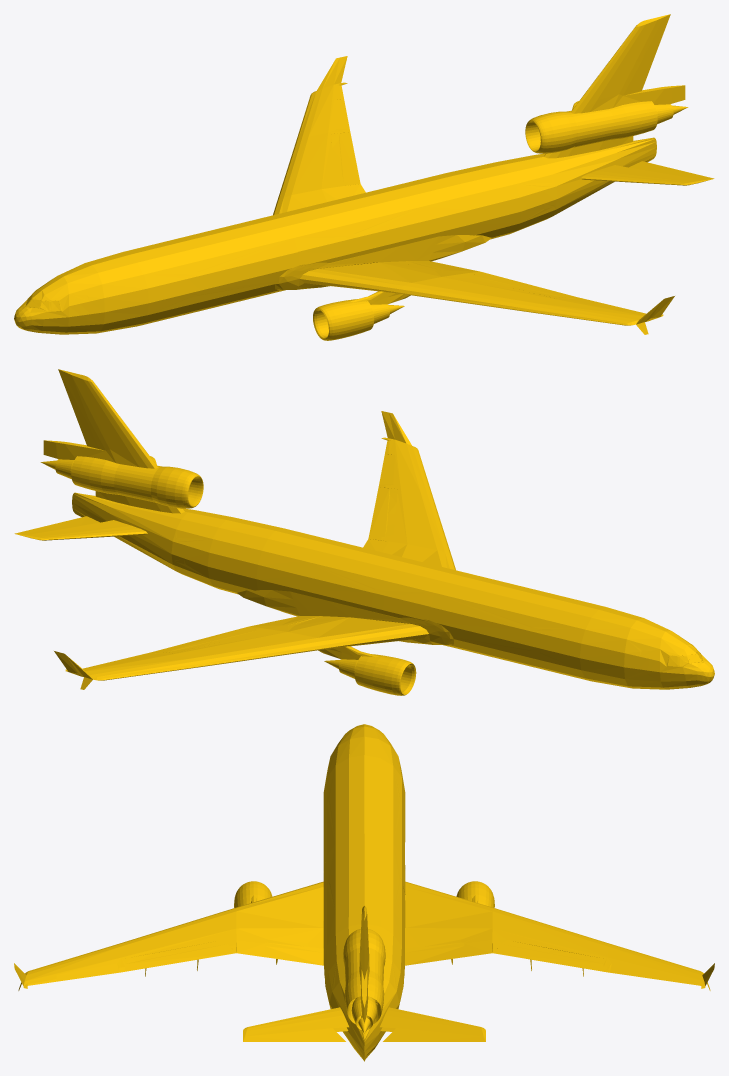
The picture shows the model from 3 angles, top to bottom: view 1: azimuth 30°, elevation 25°; view 2: azimuth 150°, elevation 25°; view 3: azimuth 270°, elevation 25°; orthographic projection. The views are drawn at different scales.
Bounding box in the file's own units: 61.49 × 16.69 × 51.92.
